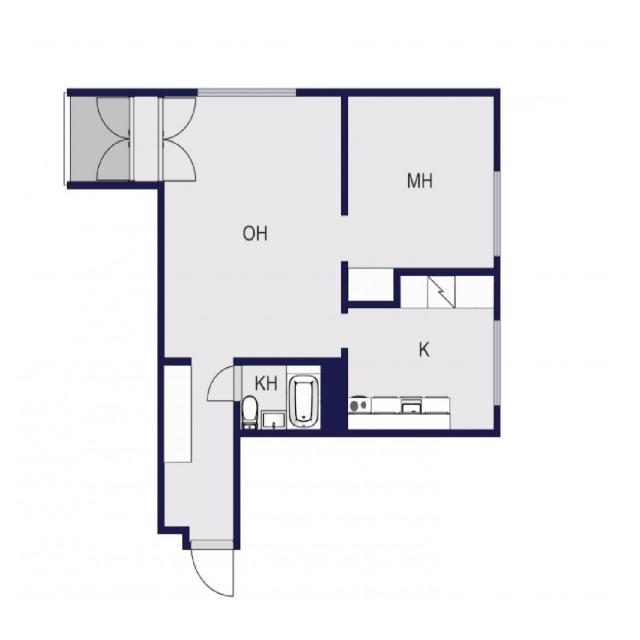door: (191, 542, 233, 599), (94, 138, 135, 180), (94, 97, 135, 138), (158, 138, 198, 180), (158, 97, 198, 139), (206, 367, 240, 400)
